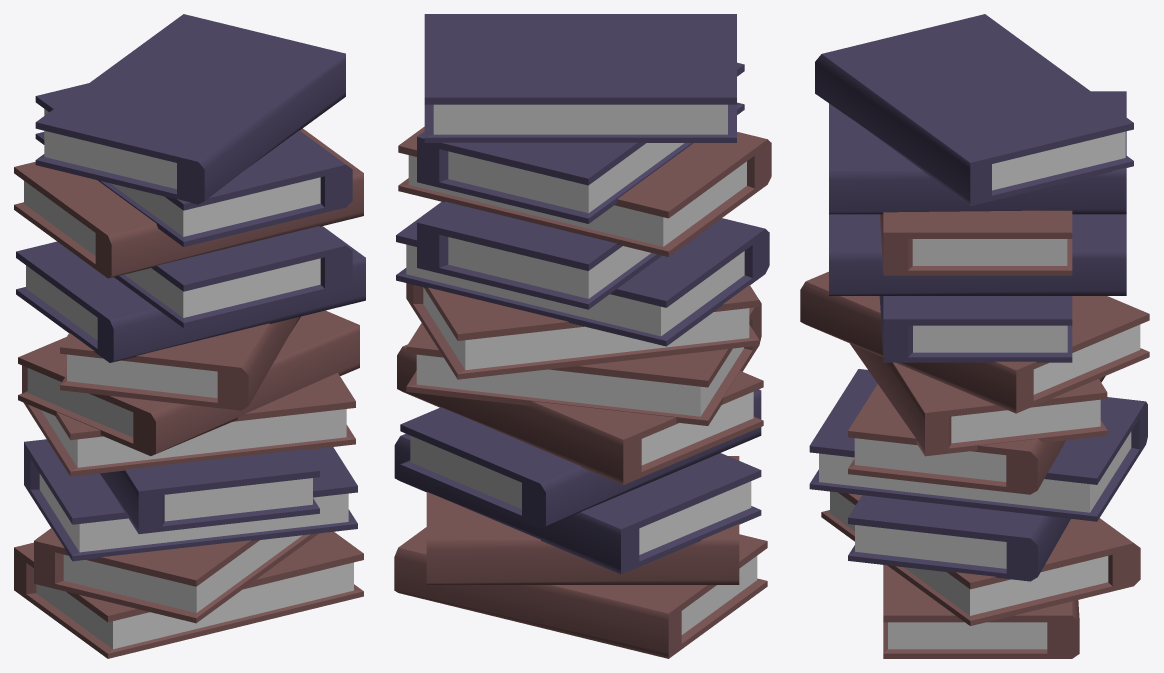
Rendered from stackedbooks.fbx.
3 renders of one model, left to right at view 1: azimuth 30°, elevation 25°; view 2: azimuth 150°, elevation 25°; view 3: azimuth 270°, elevation 25°, orthographic. The views are drawn at different scales.
Parts seen in each view (by area): view 1: pasted__pCube6, pCube2, pCube7, pasted__pCube1, pasted__pCube3, pasted__pCube4, pCube5, pCube3, pasted__pCube5, pasted__pCube2, pCube4, pCube6; view 2: pasted__pCube6, pCube2, pasted__pCube3, pasted__pCube1, pCube6, pCube7, pasted__pCube2, pCube4, pCube5, pasted__pCube5, pasted__pCube4, pCube3; view 3: pasted__pCube6, pasted__pCube2, pCube6, pasted__pCube1, pasted__pCube5, pasted__pCube4, pasted__pCube3, pCube3, pCube5, pCube7, pCube2, pCube4.
Boxes of the visible parts, left/top/right/bottom form: pasted__pCube6: left=35, top=14, right=345, bottom=204; pCube2: left=14, top=531, right=363, bottom=658; pCube7: left=18, top=310, right=359, bottom=456; pasted__pCube1: left=24, top=439, right=357, bottom=561; pasted__pCube3: left=16, top=226, right=365, bottom=362; pasted__pCube4: left=114, top=226, right=352, bottom=327; pCube5: left=14, top=128, right=363, bottom=278; pCube3: left=34, top=528, right=318, bottom=623; pasted__pCube5: left=35, top=83, right=352, bottom=246; pasted__pCube2: left=100, top=449, right=319, bottom=534; pCube4: left=22, top=365, right=355, bottom=476; pCube6: left=60, top=316, right=300, bottom=410; pasted__pCube6: left=424, top=14, right=736, bottom=142; pCube2: left=394, top=527, right=767, bottom=658; pasted__pCube3: left=396, top=202, right=769, bottom=346; pasted__pCube1: left=394, top=433, right=761, bottom=574; pCube6: left=406, top=283, right=759, bottom=379; pCube7: left=406, top=300, right=761, bottom=425; pasted__pCube2: left=400, top=389, right=761, bottom=528; pCube4: left=397, top=344, right=763, bottom=484; pCube5: left=398, top=126, right=771, bottom=256; pasted__pCube5: left=417, top=62, right=744, bottom=223; pasted__pCube4: left=417, top=201, right=661, bottom=309; pCube3: left=426, top=456, right=739, bottom=584; pasted__pCube6: left=815, top=14, right=1133, bottom=205; pasted__pCube2: left=809, top=369, right=1147, bottom=521; pCube6: left=800, top=271, right=1149, bottom=413; pasted__pCube1: left=848, top=495, right=1070, bottom=581; pasted__pCube5: left=829, top=91, right=1126, bottom=214; pasted__pCube4: left=829, top=214, right=1126, bottom=295; pasted__pCube3: left=879, top=296, right=1072, bottom=362; pCube3: left=821, top=491, right=1140, bottom=625; pCube5: left=880, top=210, right=1072, bottom=275; pCube7: left=850, top=343, right=1107, bottom=456; pCube2: left=883, top=565, right=1079, bottom=658; pCube4: left=848, top=376, right=1105, bottom=494.
Bounding box in the file's own units: 0.832 × 1.32 × 0.8198.
